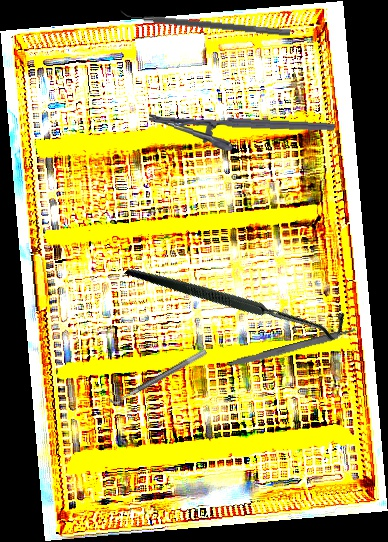Fixation Ring: (104, 340, 209, 408)
Hook Surgical: (124, 184, 352, 410)
Needle Holder: (147, 112, 335, 158)
Scalpel Handle: (226, 326, 357, 371)
Spatula Surgical: (118, 6, 292, 37)
